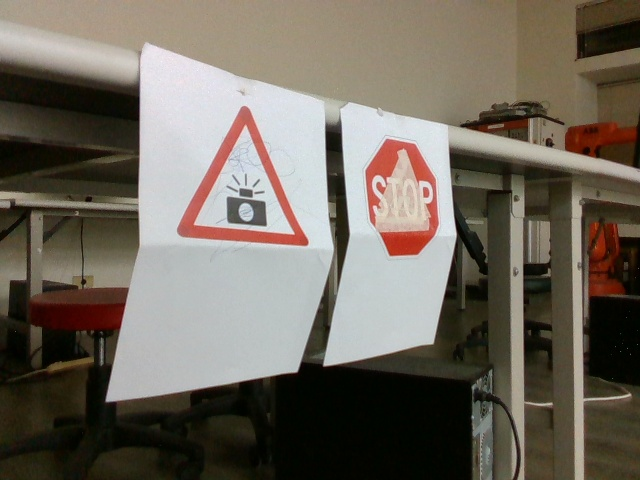camera: (178, 106, 310, 247)
stop: (368, 136, 442, 258)
